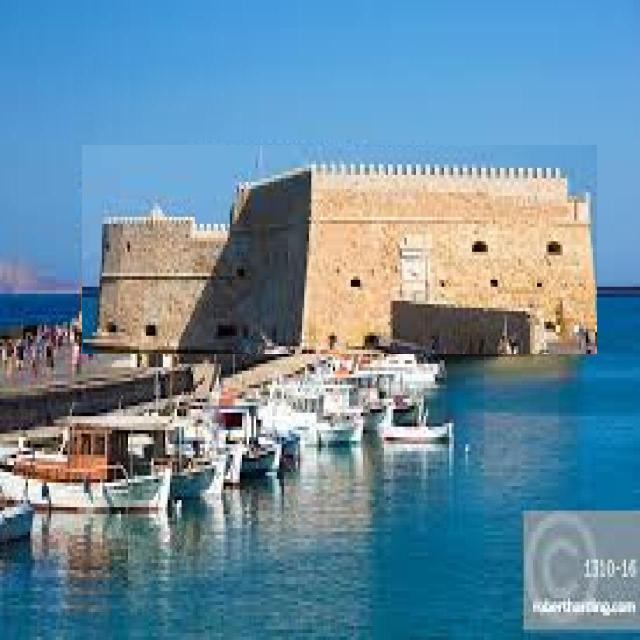Kules: (83, 146, 598, 355)
